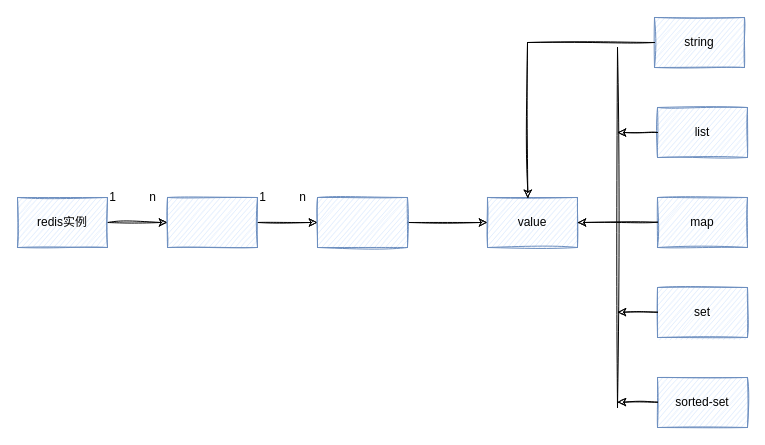
Some shapes in this 765 by 445 pixel diagram are drawn without their labels. The centre of each missing label's shape, as x and y in pixels:
db: point (212, 222)
key: point (362, 222)
